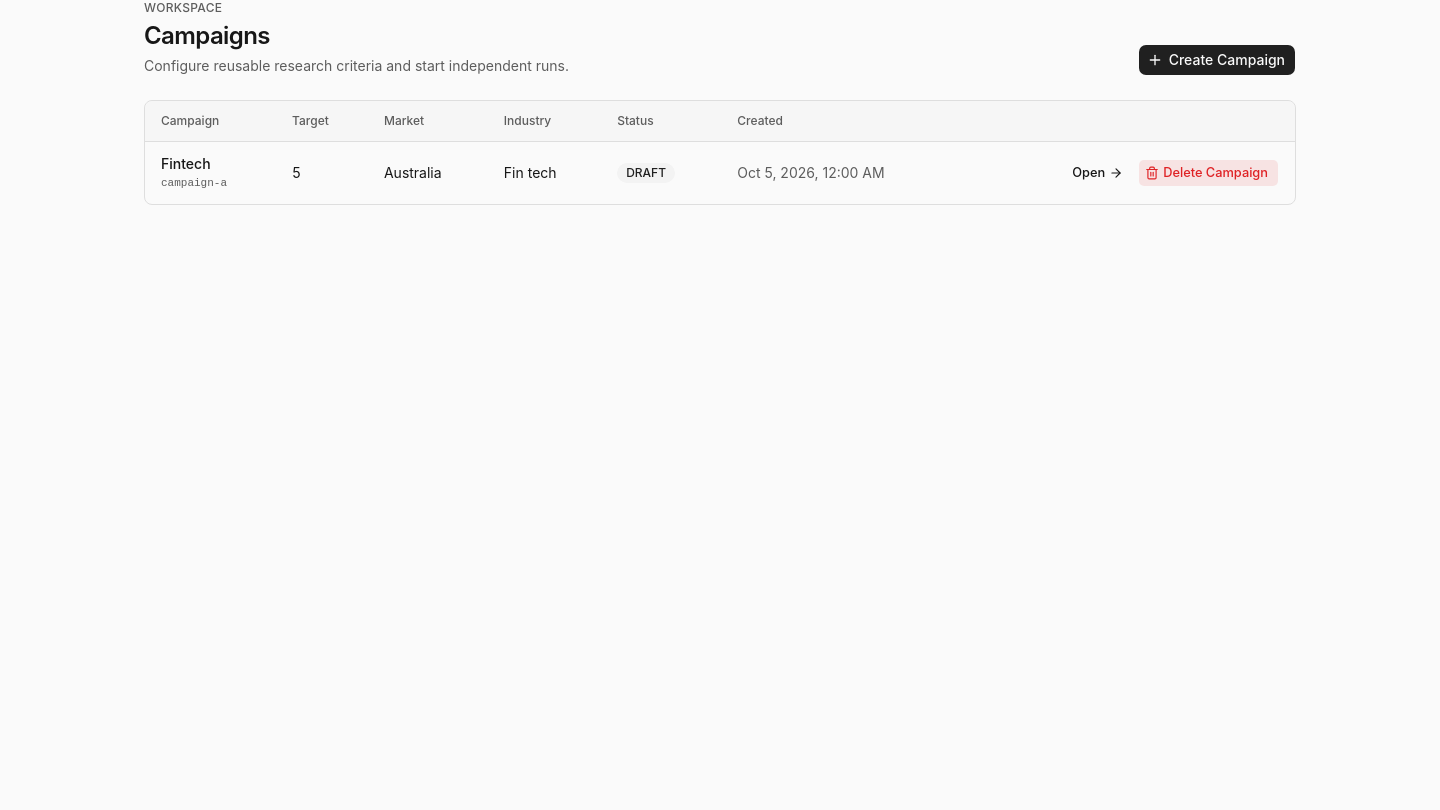
Test: CampaignsPage › preserves the campaign and shows the lifecycle message on conflict
What coordinates should you click on to do the following:
click the button with aria-label "Delete Campaign campaign-a"
I would click on:
 (1209, 173)
Its box is [1138,159,1279,187].
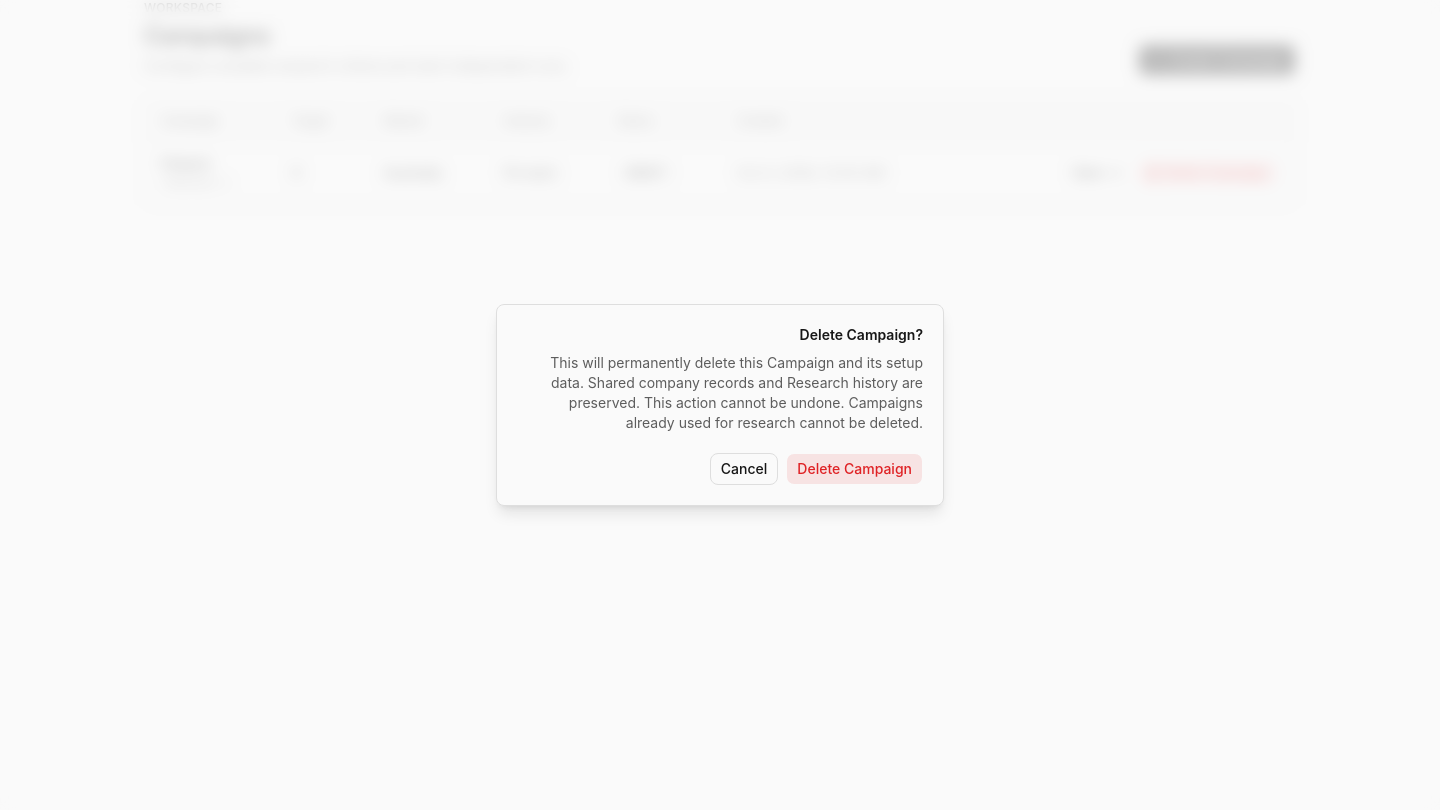
What coordinates should you click on to do the following:
click the button "Delete Campaign" below "Delete Campaign?"
I would click on:
 (855, 469)
Its box is [786,453,923,485].
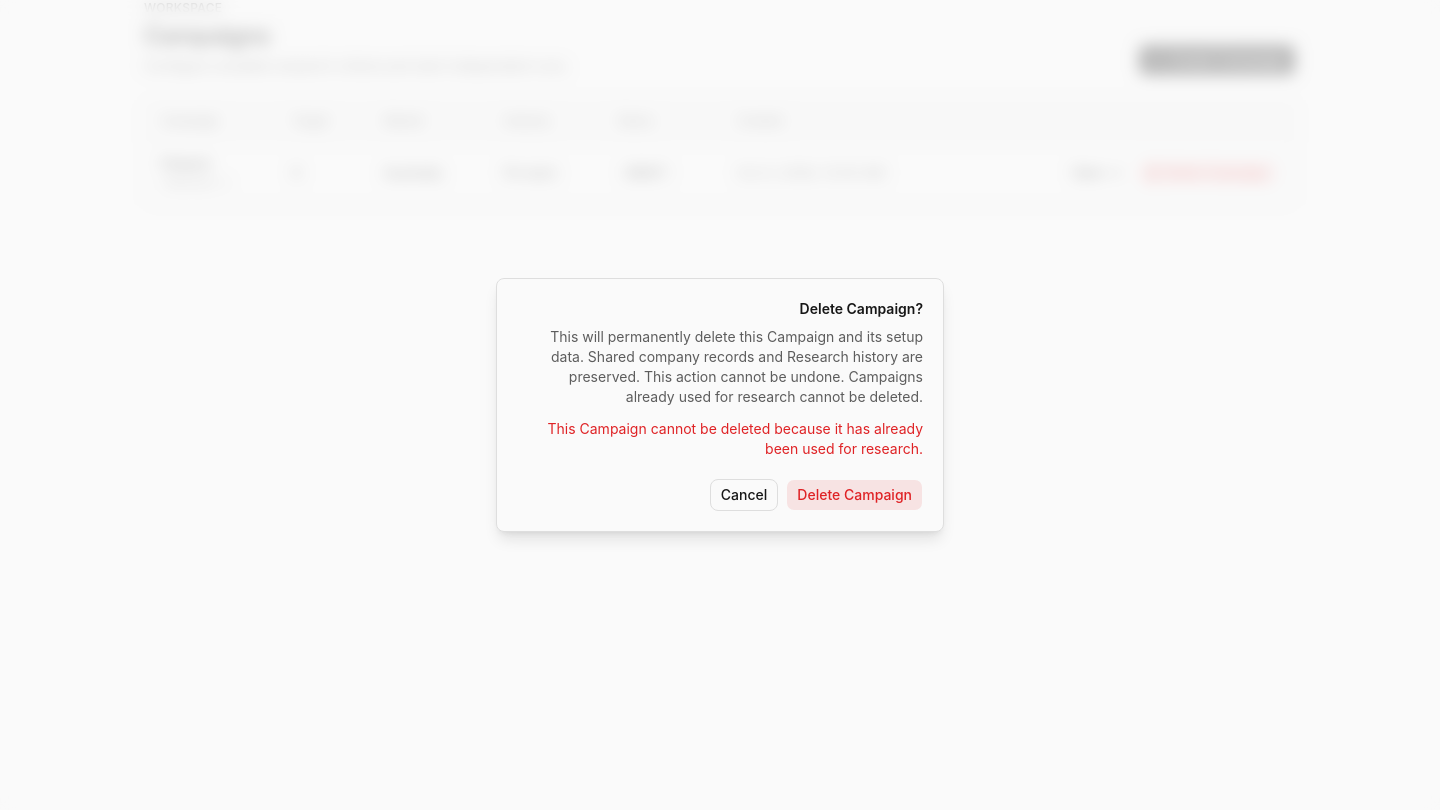
Check: the message reads "This Campaign cannot be deleted because it has already been used for research.", box [548,420,923,457]
